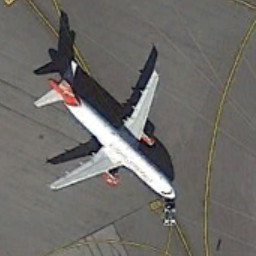Airplane: (31, 52, 185, 210)
